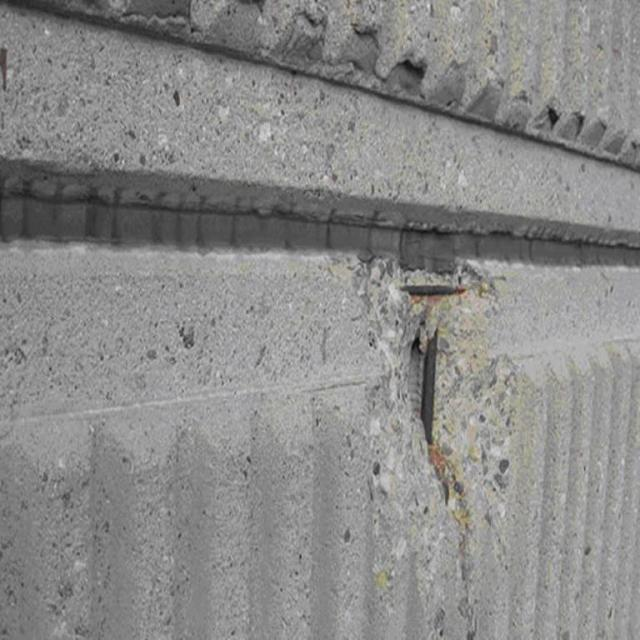Rebar: (354, 268, 493, 501)
horizontal crack: (0, 158, 640, 267)
